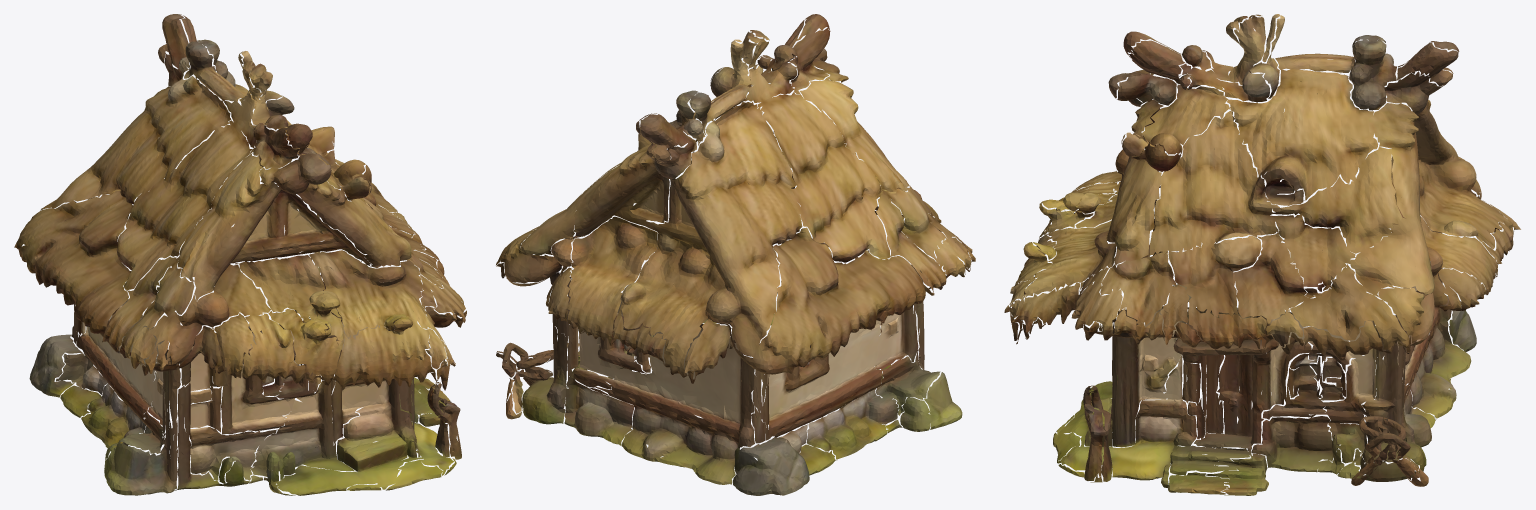
Rendered from village_building_05_lod0.glb.
3 views of the same model, side by side, from view 1: azimuth 30°, elevation 25°; view 2: azimuth 150°, elevation 25°; view 3: azimuth 270°, elevation 25° (orthographic). The views are drawn at different scales.
Visible parts, largest first — view 1: world; view 2: world; view 3: world.
Part boxes in pixels (box(x1,y1,x2,y2)): world: box(14, 14, 466, 495); world: box(496, 14, 975, 495); world: box(1004, 14, 1520, 495).
Size of the model in its own units: 0.2793 by 0.2762 by 0.3226.
1 material, 1 textured.
